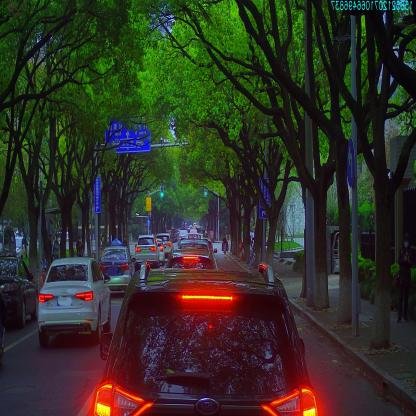traffic-light: (160, 183, 164, 197), (204, 183, 208, 196)
